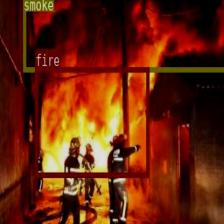fire: (35, 66, 148, 176)
smoke: (22, 0, 224, 71)
